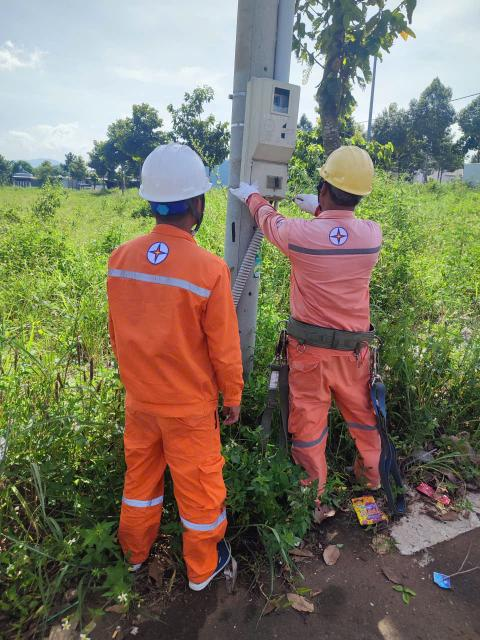gloves: (228, 180, 267, 208), (292, 191, 326, 219)
harness: (273, 301, 387, 359)
helmet: (132, 140, 231, 210), (315, 136, 367, 198)
shoes: (194, 528, 232, 594)
